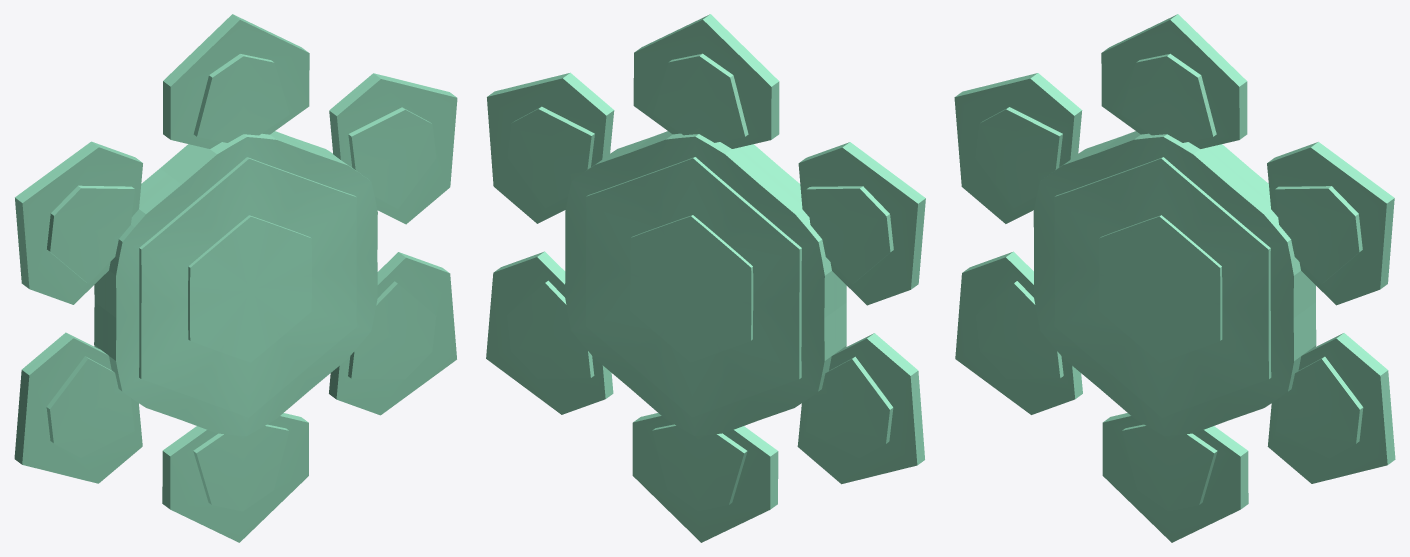
The model's file is Snowflake.003.glb.
3 renders of one model, left to right at view 1: azimuth 30°, elevation 25°; view 2: azimuth 150°, elevation 25°; view 3: azimuth 330°, elevation 25°, orthographic.
Parts seen in each view (by area): view 1: Snowflake.003; view 2: Snowflake.003; view 3: Snowflake.003.
Part boxes in pixels (x1,y1,x2,y2): Snowflake.003: (14, 14, 457, 542); Snowflake.003: (486, 14, 925, 542); Snowflake.003: (954, 14, 1395, 542).
Size of the model in its own units: 901 by 1039 by 110.
